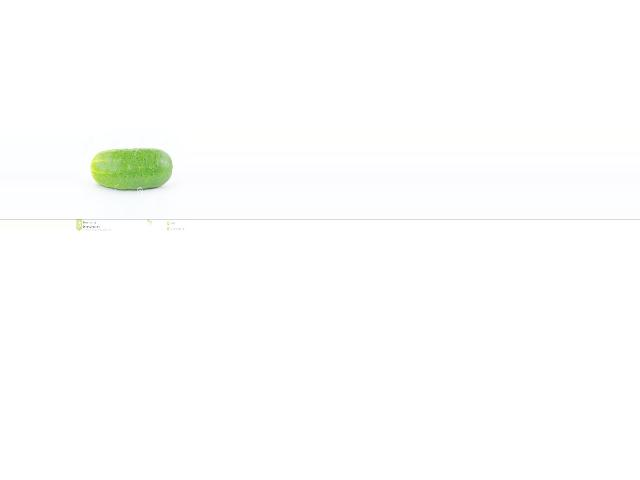cucumber: (91, 149, 173, 190)
